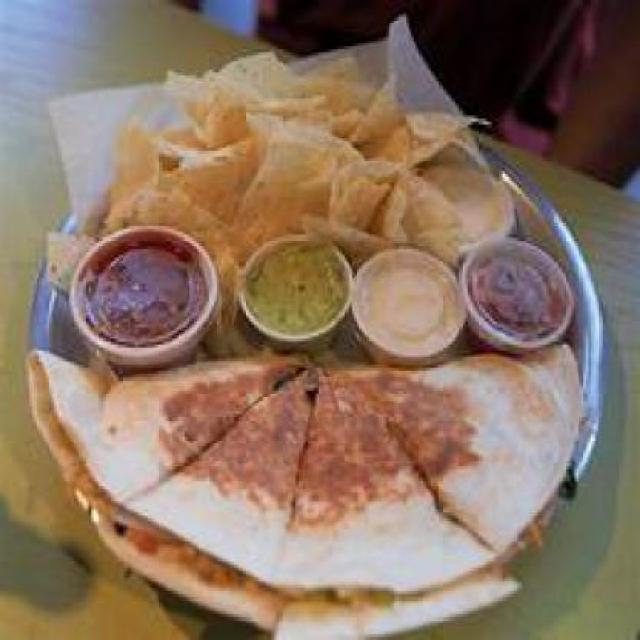chicken quesadilla: (22, 325, 601, 637)
guacamole: (232, 229, 354, 348)
nachos: (78, 31, 517, 247)
